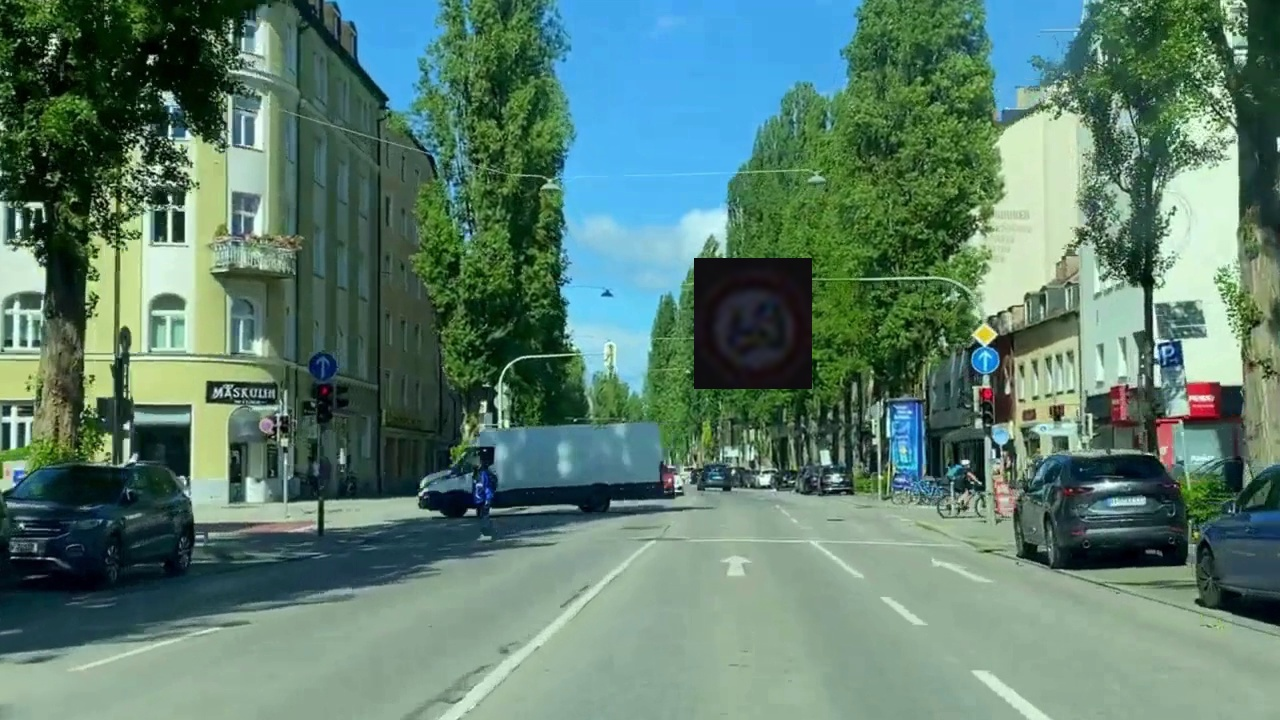Speed 60: (694, 258, 812, 389)
